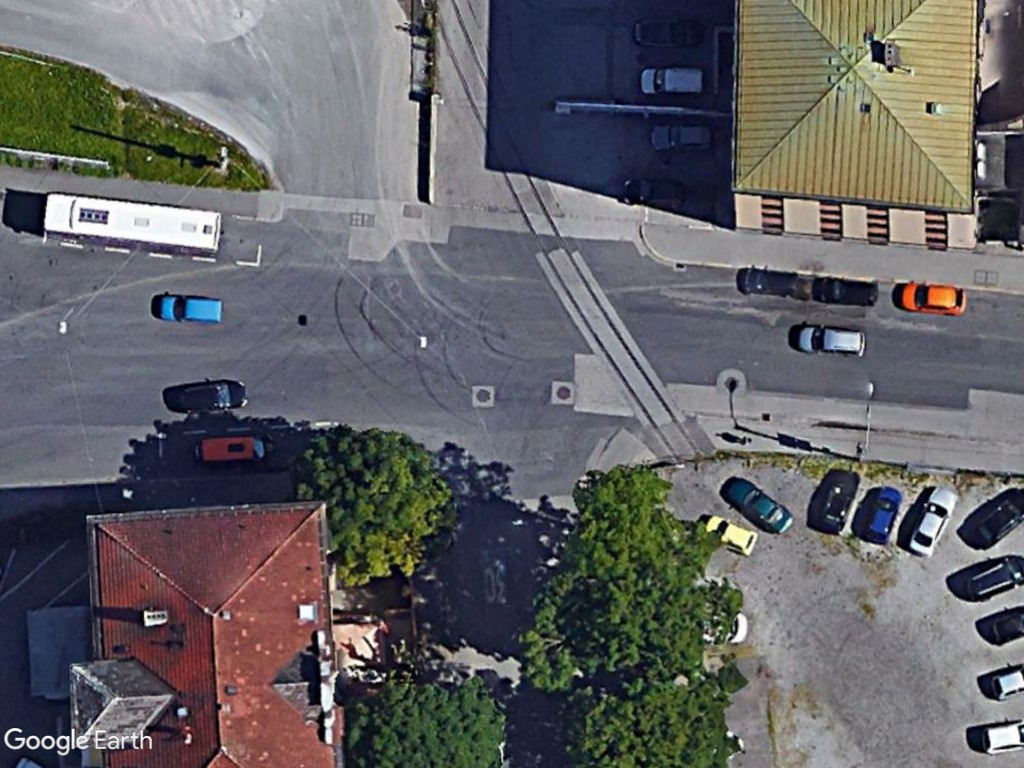bus: (36, 184, 229, 260)
car: (719, 470, 797, 541), (901, 482, 962, 557), (893, 278, 974, 320), (789, 321, 871, 362), (152, 289, 227, 327), (861, 482, 900, 547)
